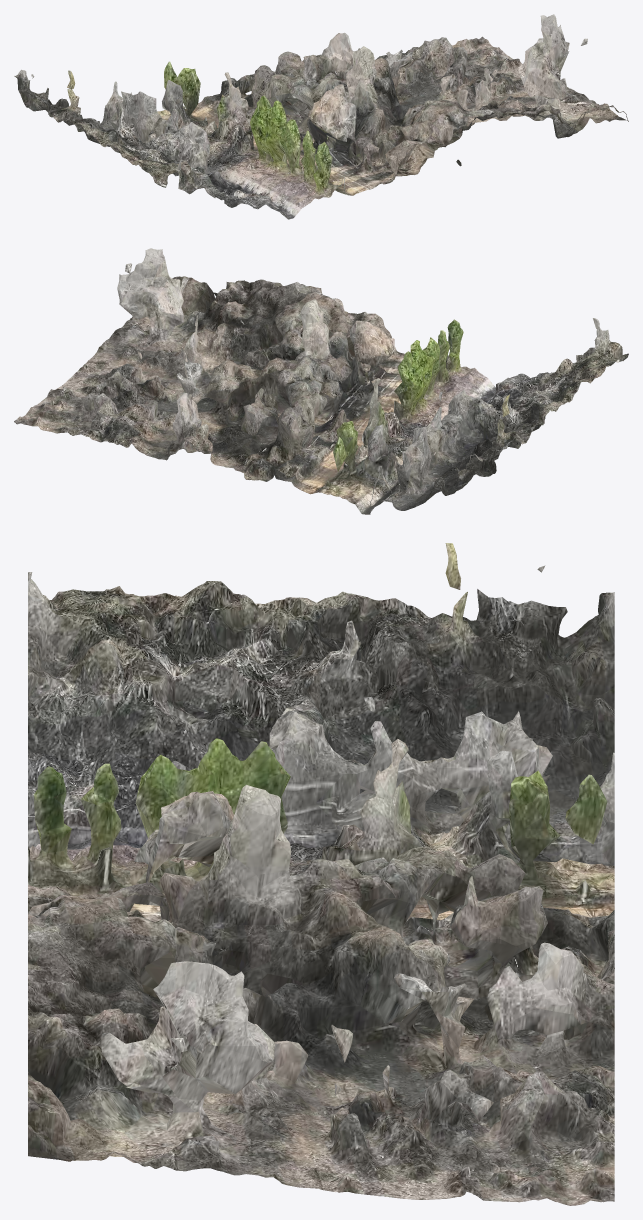
Rendered from Block_L20_445.glb.
3 renders of one model, top to bottom at view 1: azimuth 30°, elevation 25°; view 2: azimuth 150°, elevation 25°; view 3: azimuth 270°, elevation 25°, orthographic. The views are drawn at different scales.
Visible parts, largest first — view 1: rtc; view 2: rtc; view 3: rtc.
Boxes of the visible parts, x1,y1,x2,y2 form: rtc: [14, 14, 628, 219]; rtc: [14, 248, 628, 514]; rtc: [28, 543, 614, 1205].
Size of the model in its own units: 40.53 by 9.52 by 22.
4 materials, 4 textured.
